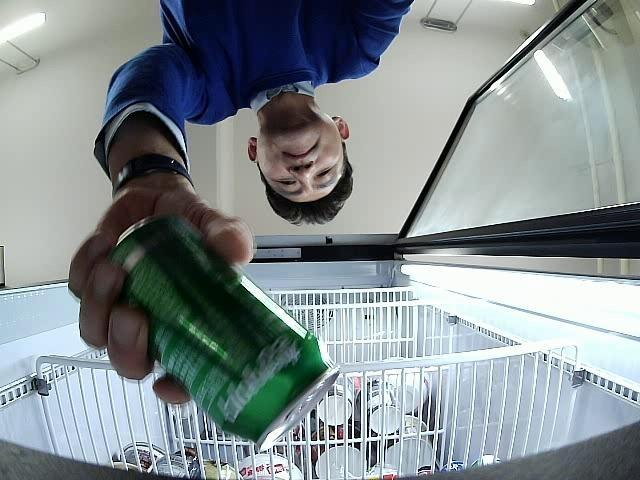12_chilsungCider: (106, 210, 340, 454)
